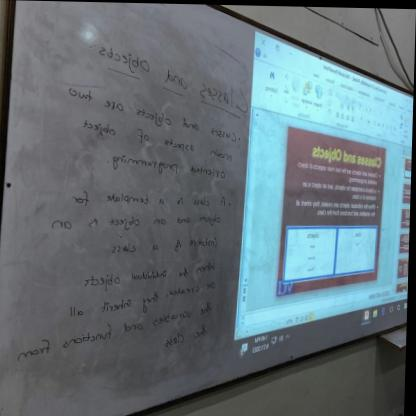Handwritten text: (9, 292, 222, 369), (56, 72, 246, 157), (89, 36, 261, 121), (72, 110, 241, 174), (59, 264, 226, 327), (101, 145, 234, 191), (71, 181, 231, 219), (81, 254, 225, 292), (49, 209, 229, 238), (106, 232, 224, 260), (153, 315, 221, 356)
Whiteboard: (0, 0, 415, 416)
